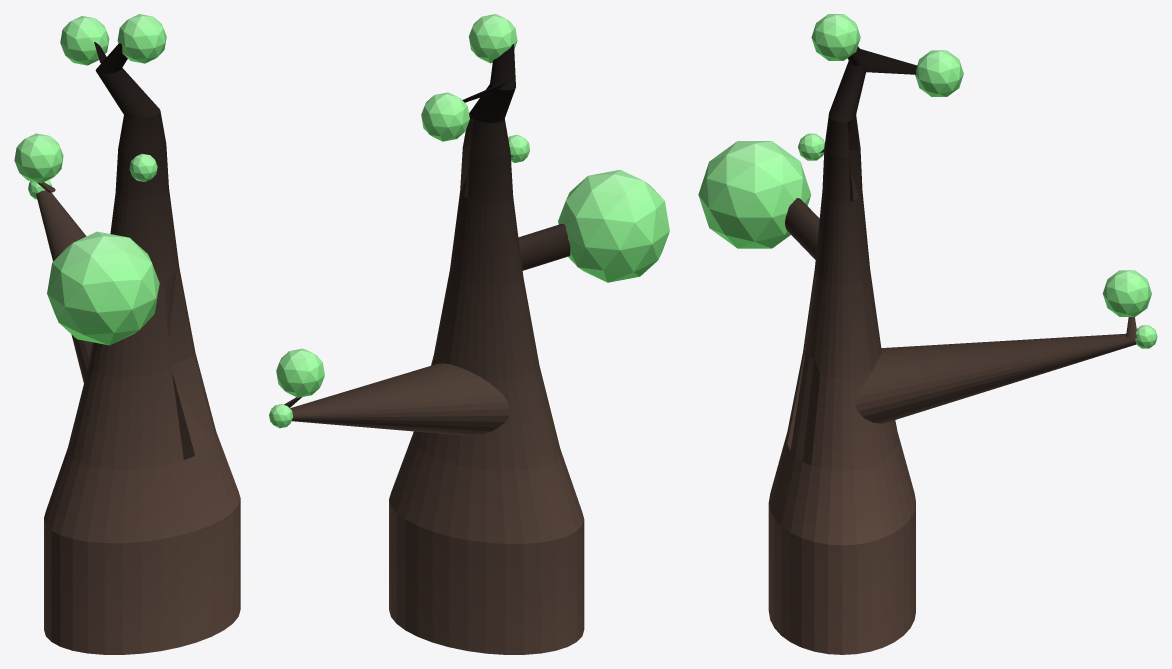
The model's file is env_tree_HarryShanks_01.gltf.
3 views of the same model, side by side, from view 1: azimuth 30°, elevation 25°; view 2: azimuth 150°, elevation 25°; view 3: azimuth 270°, elevation 25° (orthographic). The views are drawn at different scales.
Parts seen in each view (by area): view 1: Trunk; view 2: Trunk; view 3: Trunk.
Boxes of the visible parts, box(x1,y1,x2,y2) form: Trunk: box(14, 14, 240, 654); Trunk: box(269, 14, 669, 654); Trunk: box(698, 14, 1157, 654).
Size of the model in its own units: 10.19 by 26.62 by 18.63.
Materials: 2 (2 with a texture image).
